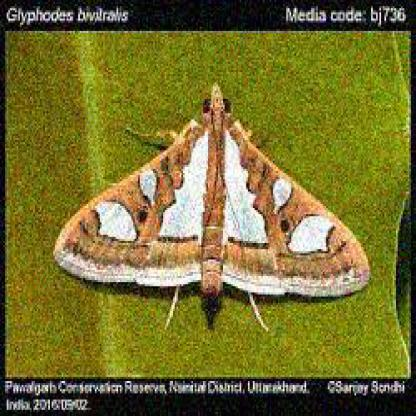Leaf Webber: (53, 83, 377, 308)
